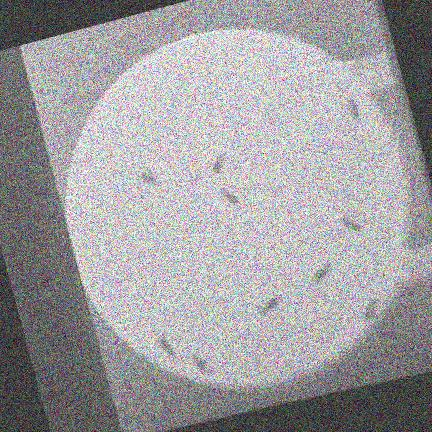fly: (190, 353, 211, 375), (311, 263, 330, 285), (258, 296, 280, 315), (137, 169, 157, 188), (210, 153, 225, 178), (156, 335, 173, 357), (338, 217, 360, 234), (362, 298, 377, 322), (218, 190, 237, 206), (346, 97, 359, 120)
